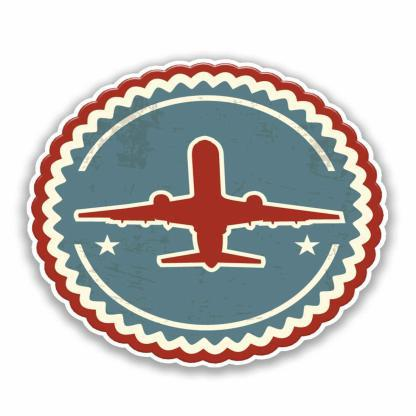CIV_Plane: (68, 130, 350, 270)
